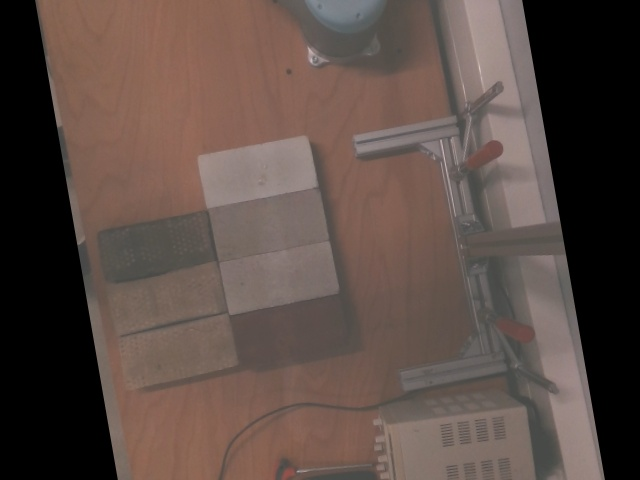brick: (197, 136, 316, 209), (207, 190, 326, 263), (217, 242, 336, 315), (114, 317, 233, 390), (104, 264, 222, 336)
